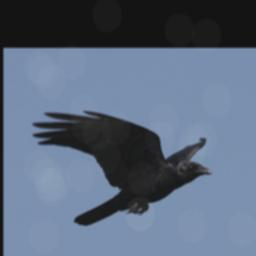Crow: (31, 109, 214, 226)
